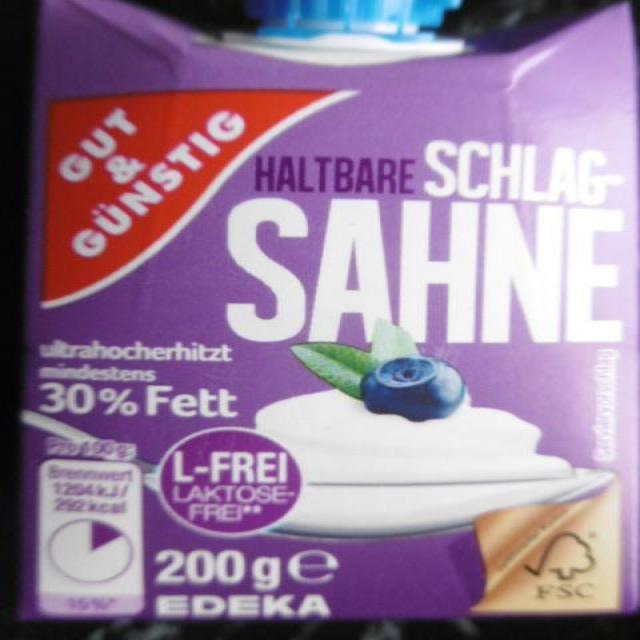cream: (21, 0, 636, 619)
